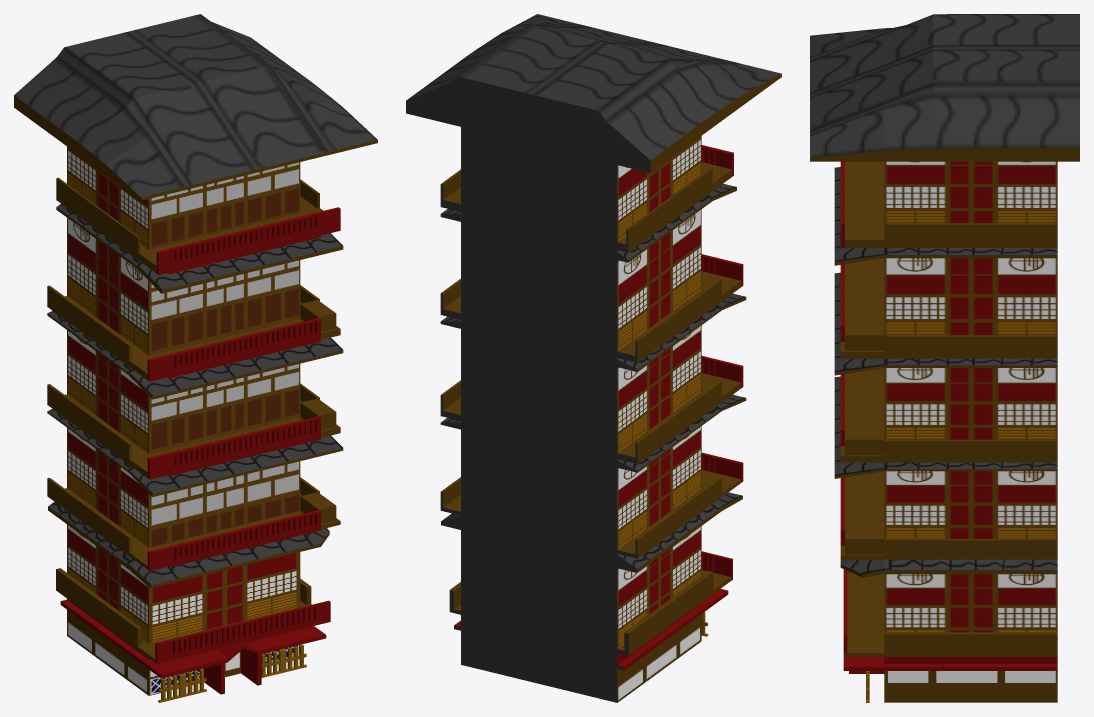
The model's file is tower.fbx.
3 views of the same model, side by side, from view 1: azimuth 30°, elevation 25°; view 2: azimuth 150°, elevation 25°; view 3: azimuth 270°, elevation 25° (orthographic). The views are drawn at different scales.
Visible parts, largest first — view 1: pasted__pCube3; view 2: pasted__pCube3; view 3: pasted__pCube3.
Boxes of the visible parts, left/top/right/bottom form: pasted__pCube3: left=14, top=14, right=377, bottom=702; pasted__pCube3: left=406, top=14, right=781, bottom=702; pasted__pCube3: left=810, top=14, right=1079, bottom=702.
Size of the model in its own units: 1312 by 3075 by 1221.
